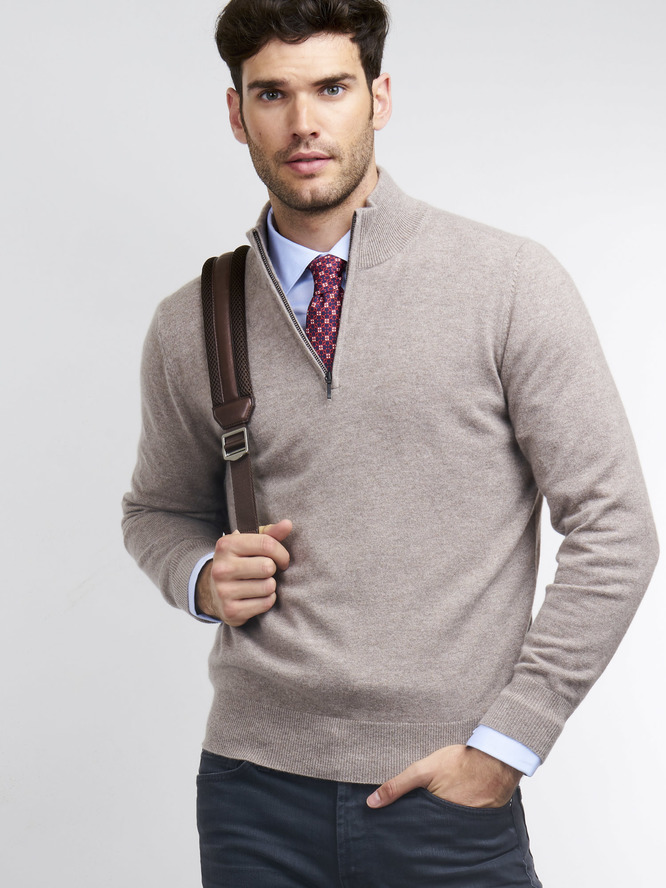NOTSAFE: (195, 1, 533, 782)
